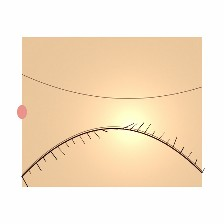pinguecula_lesion: (42, 109, 71, 132)
